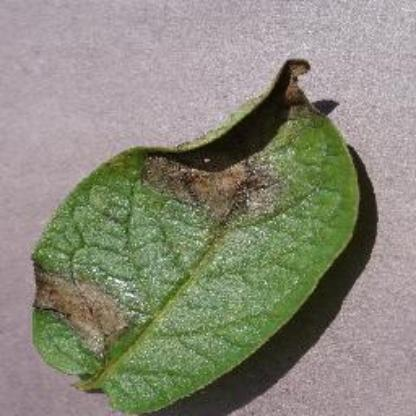Late-Blight: (18, 49, 380, 416)
